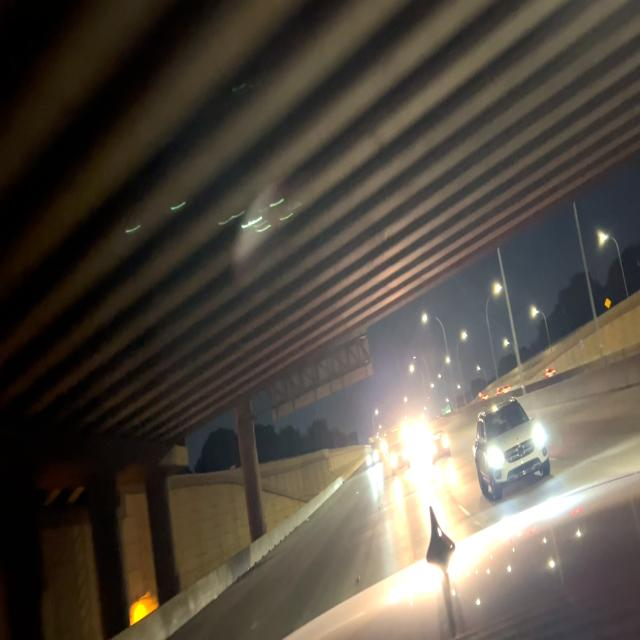back-of-sign: (268, 337, 372, 422)
